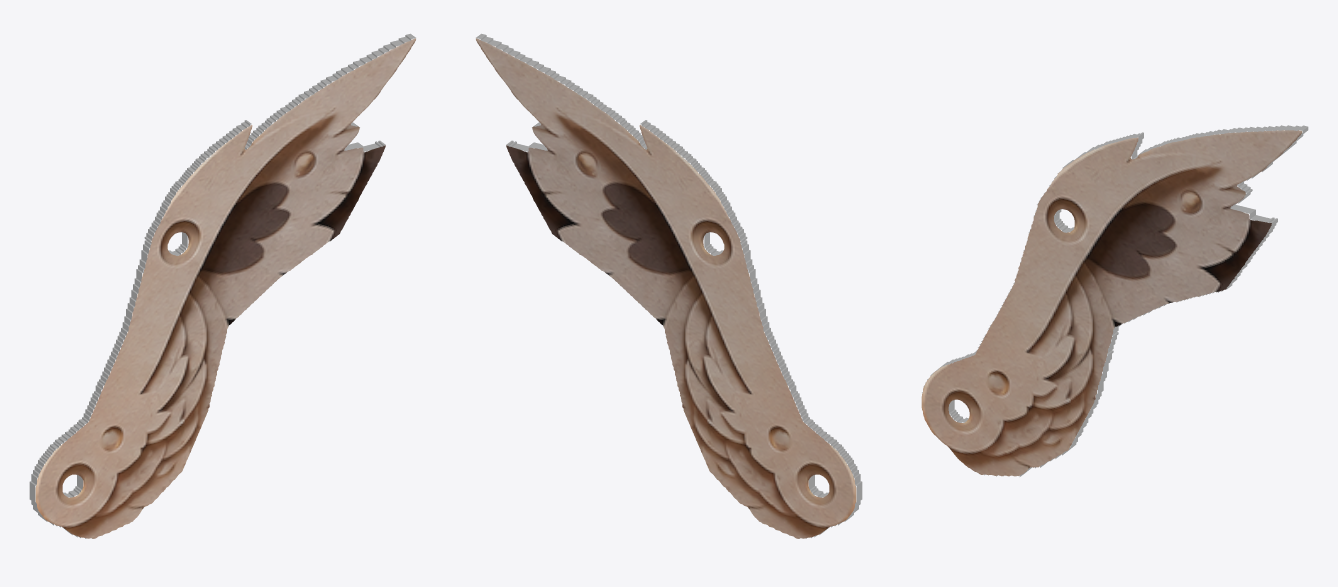
The model's file is RootRight.glb.
3 renders of one model, left to right at view 1: azimuth 30°, elevation 25°; view 2: azimuth 150°, elevation 25°; view 3: azimuth 330°, elevation 25°, orthographic.
Visible parts, largest first — view 1: PaperVolume; view 2: PaperVolume; view 3: PaperVolume.
Boxes of the visible parts, box(x1,y1,x2,y2) form: PaperVolume: box(29, 33, 415, 538); PaperVolume: box(476, 33, 862, 538); PaperVolume: box(921, 125, 1308, 476).
Bounding box in the file's own units: 3.26 × 3.44 × 0.08.
Materials: 3 (2 with a texture image).
